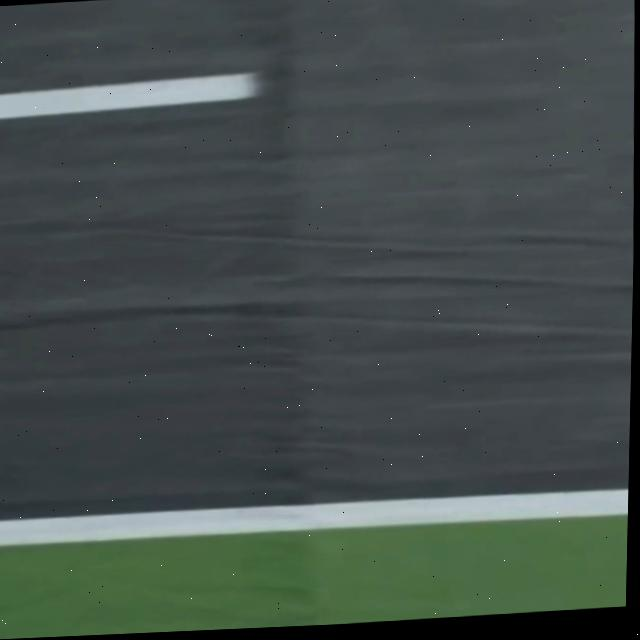center: (0, 72, 259, 118)
right: (0, 488, 629, 544)
